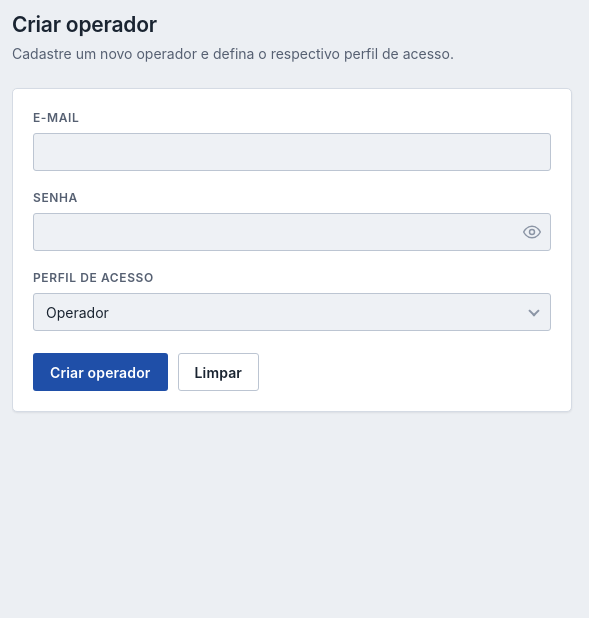
Test case: CreateOperatorPage › mostra message, notifications e erro junto do campo e preserva os dados quando a api recusa
In the field labelled "E-mail": (292, 152) [33,133,551,171], type "nova@example.test"
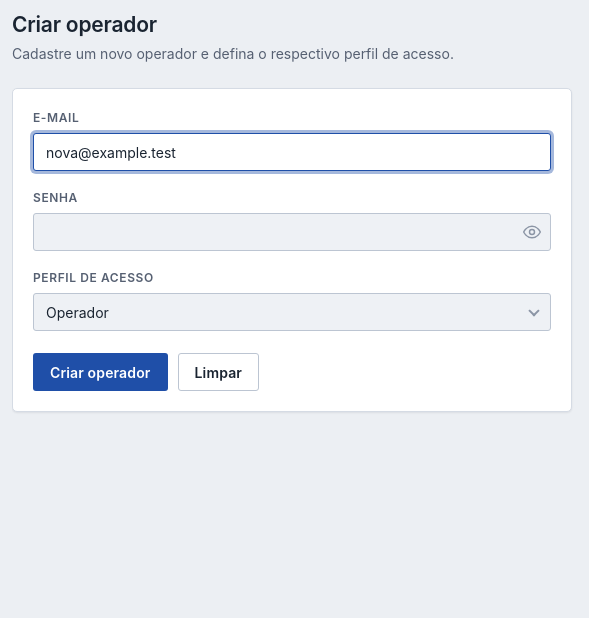
In the password field labelled "Senha": (292, 232) [33,213,551,251], type "senha-secreta"
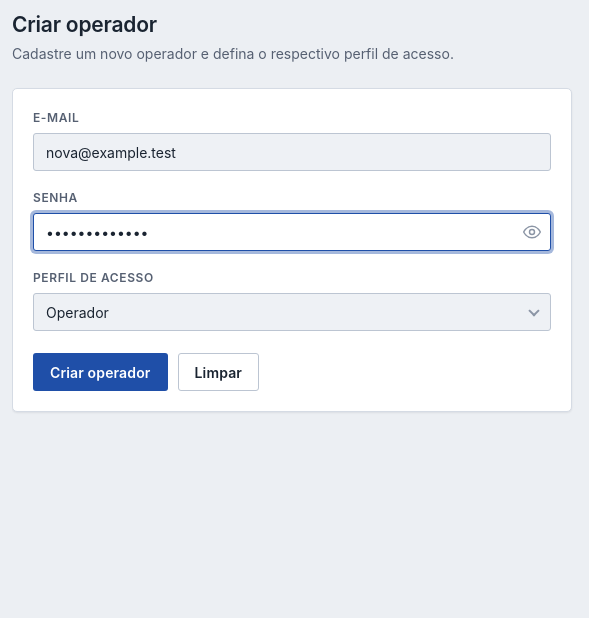
Select "Administrador" in the dropdown labelled "Perfil de acesso": (292, 312) [33,293,551,331]
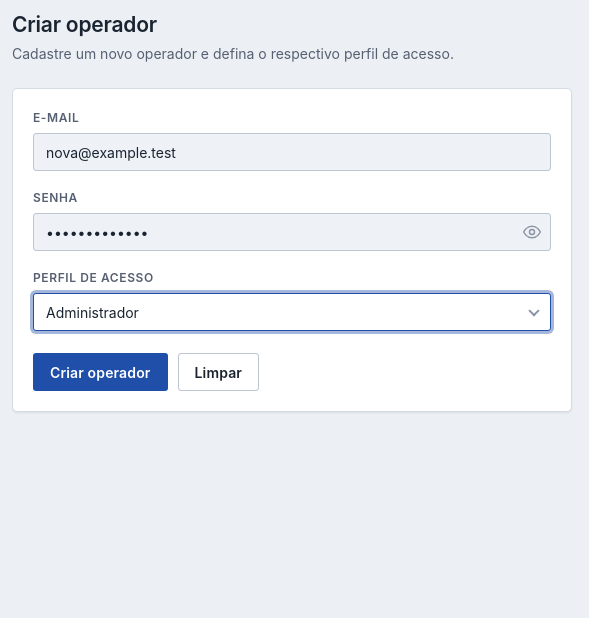
Click the button "Criar operador": click(100, 372) [33,353,168,391]
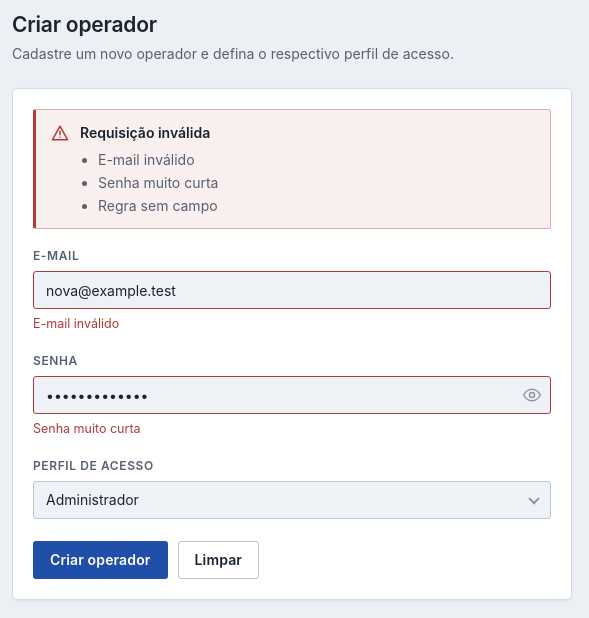
expect the text "Requisição inválida" is shown: met, box [80,122,218,143]
expect the message "Requisição inválida E-mail inválido Senha muito curta Regra sem campo" is shown: met, box [33,109,551,229]
